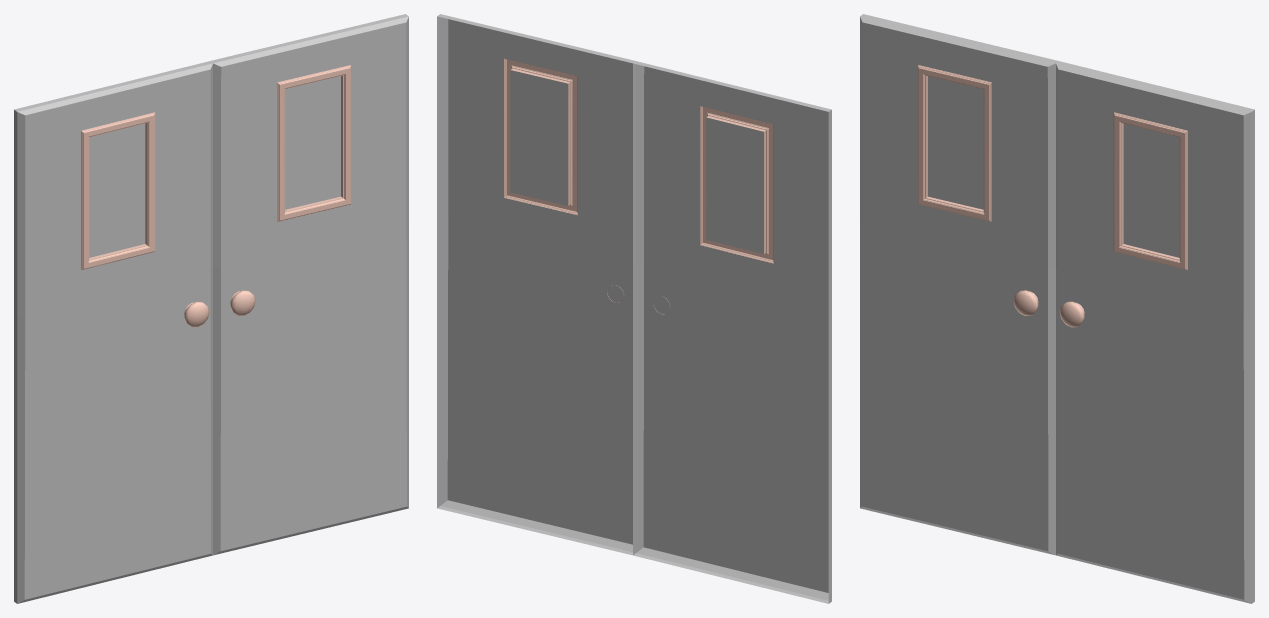
Rendered from Shop_Door.fbx.
3 renders of one model, left to right at view 1: azimuth 30°, elevation 25°; view 2: azimuth 150°, elevation 25°; view 3: azimuth 330°, elevation 25°, orthographic.
Parts seen in each view (by area): view 1: Door; view 2: Door; view 3: Door.
Part boxes in pixels (x1,y1,x2,y2): Door: [14, 14, 408, 603]; Door: [437, 14, 831, 603]; Door: [860, 14, 1254, 603].
Bounding box in the file's own units: 201 × 242 × 11.52.
